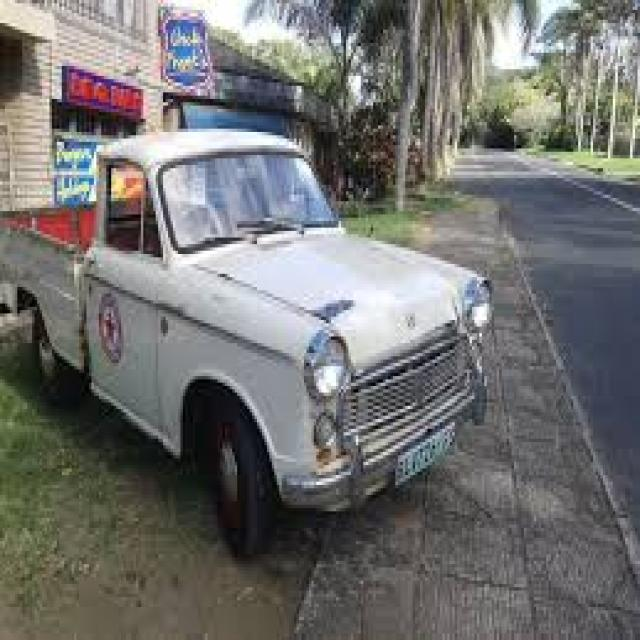Pickup Trucks: (2, 132, 492, 557)
